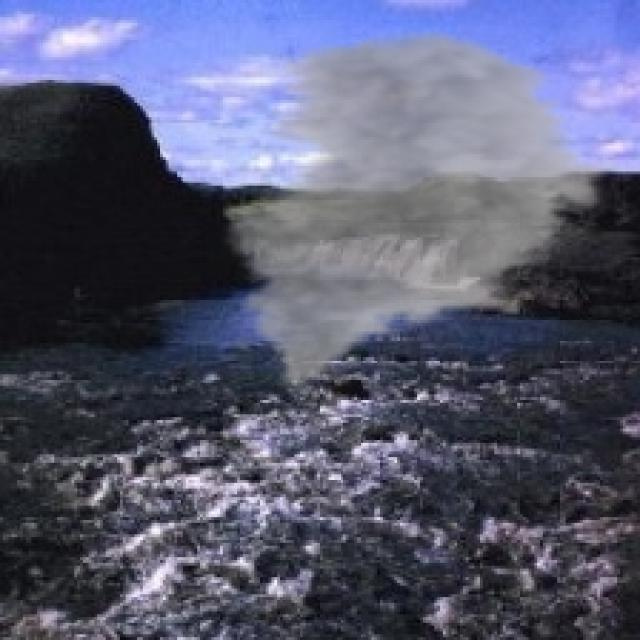smoke: (214, 26, 617, 394)
